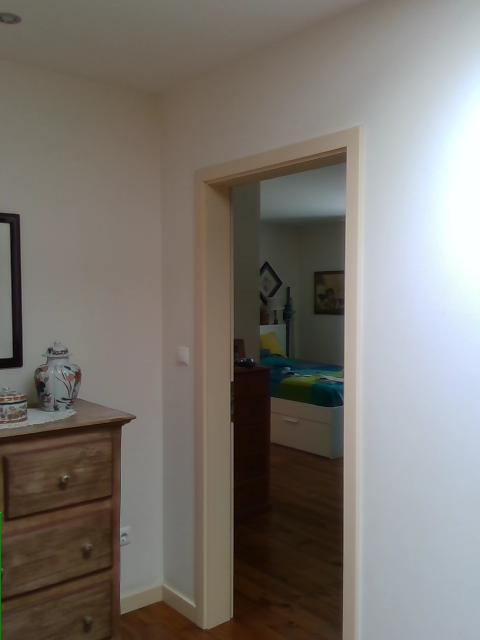open_door: (193, 121, 363, 639)
